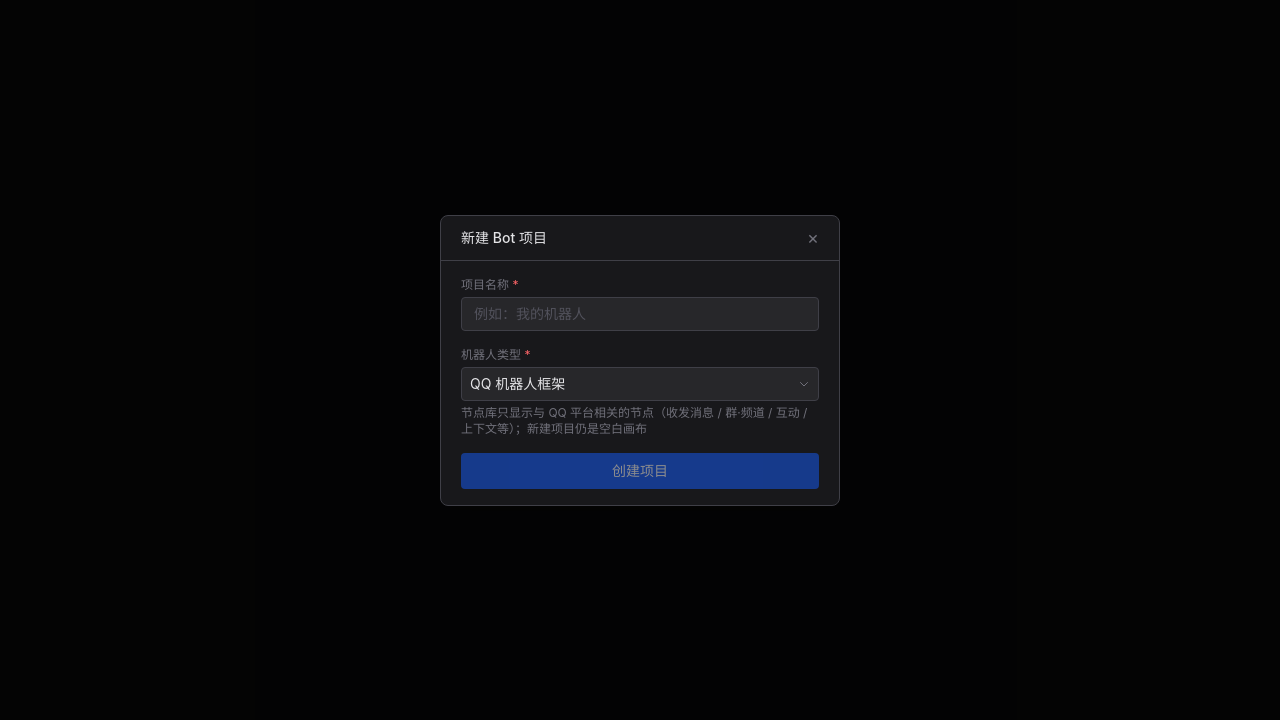
Test: NewProjectDialog - 错误处理 › IPC 返回 ok=false 时显示错误信息
In the field with placeholder "例如：我的机器人": (640, 314) [461, 296, 819, 330], type "my-bot"
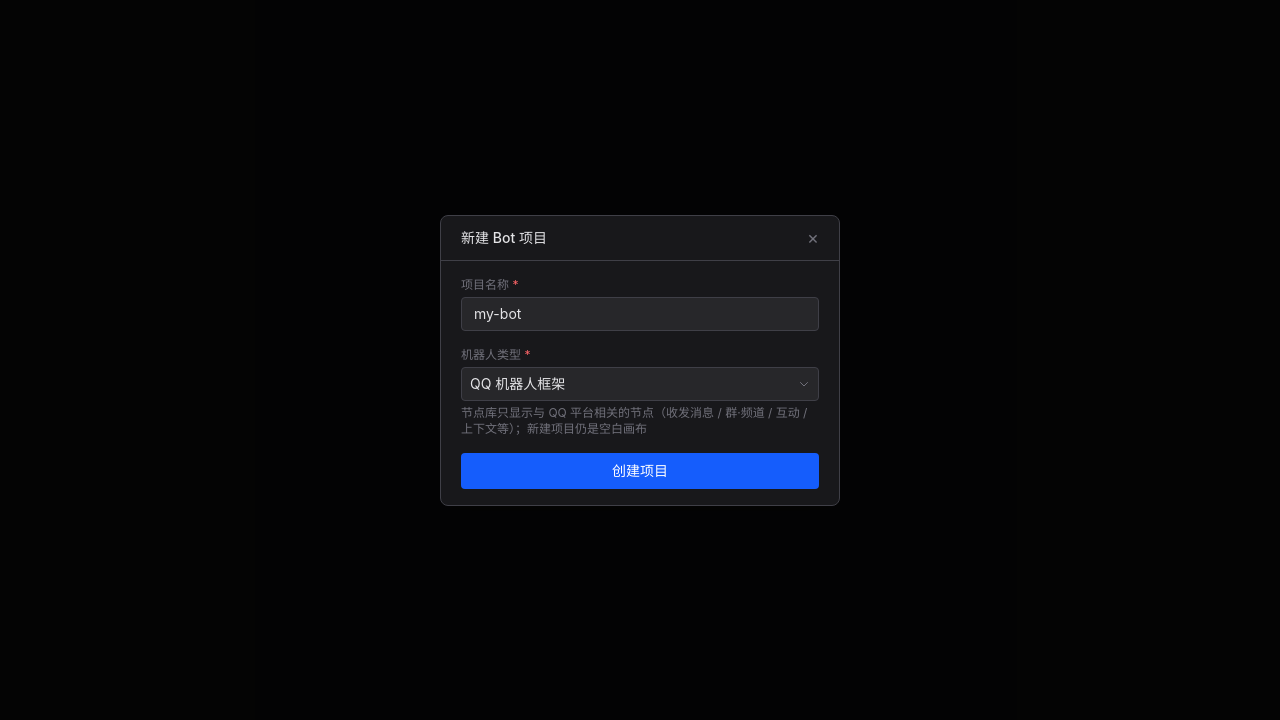
Click the button "创建项目": click(640, 470) [461, 452, 819, 488]
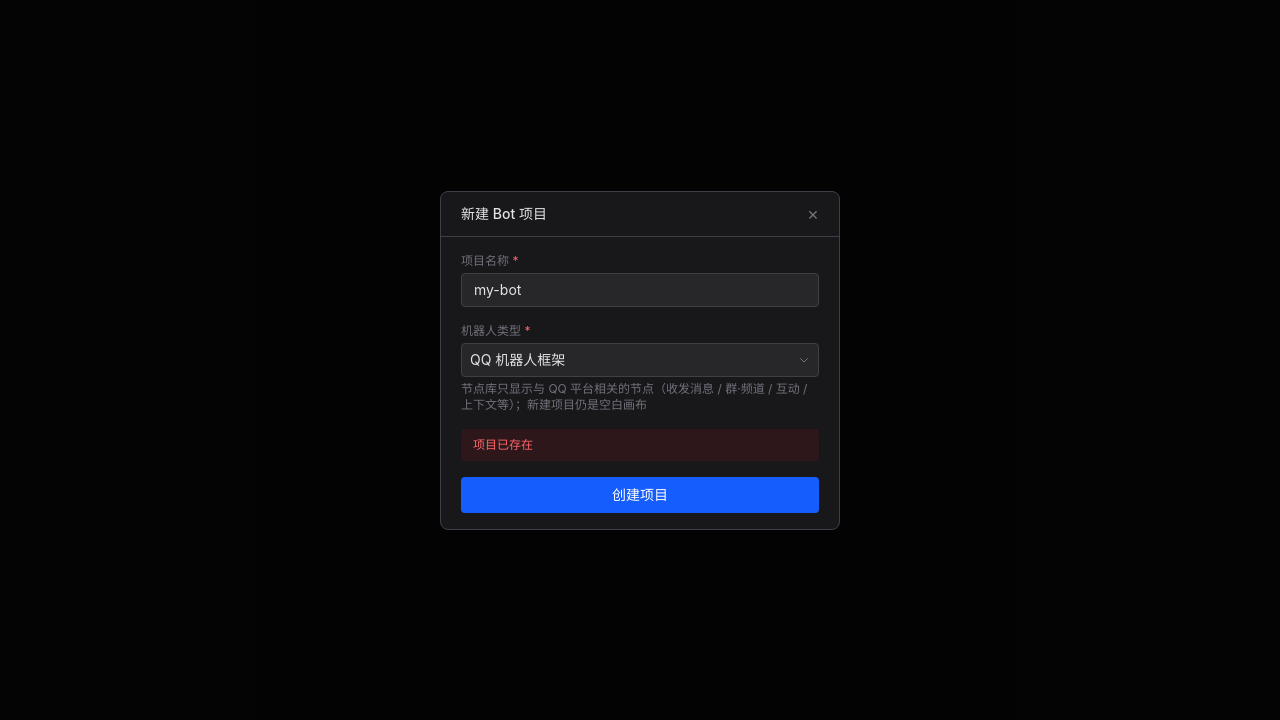
Expected: the text "项目已存在" is shown, [461, 428, 819, 460]
